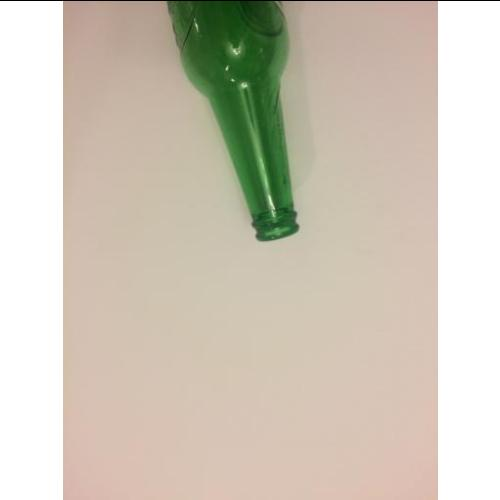glass: (168, 2, 300, 241)
